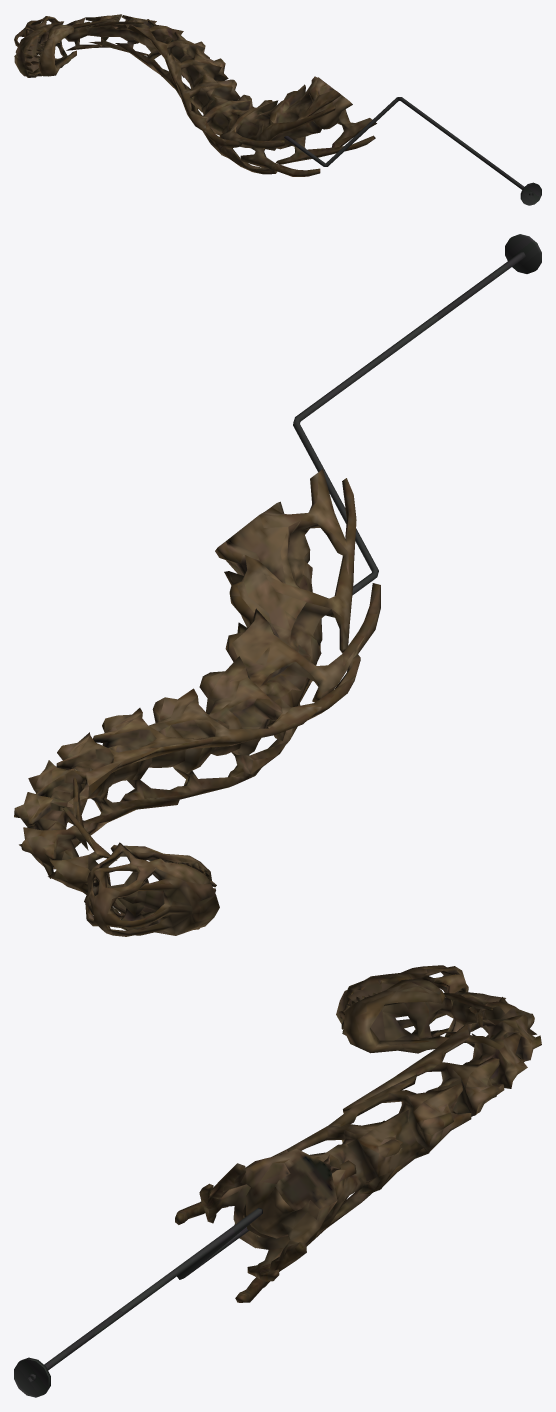
File: fossil10.fbx
3 views of the same model, one above another, from view 1: azimuth 30°, elevation 25°; view 2: azimuth 150°, elevation 25°; view 3: azimuth 330°, elevation 25° (orthographic). The views are drawn at different scales.
Visible parts, largest first — view 1: Low_head1__mFtrFossilBrachiosaurusA, pipe7__mFossilPole; view 2: Low_head1__mFtrFossilBrachiosaurusA, pipe7__mFossilPole; view 3: Low_head1__mFtrFossilBrachiosaurusA, pipe7__mFossilPole.
Part boxes in pixels (bbox=[...]): Low_head1__mFtrFossilBrachiosaurusA: bbox=[14, 14, 376, 176]; pipe7__mFossilPole: bbox=[284, 97, 541, 205]; Low_head1__mFtrFossilBrachiosaurusA: bbox=[14, 469, 380, 936]; pipe7__mFossilPole: bbox=[293, 234, 541, 615]; Low_head1__mFtrFossilBrachiosaurusA: bbox=[175, 965, 541, 1302]; pipe7__mFossilPole: bbox=[14, 1208, 262, 1397].
Bounding box in the file's own units: 168 × 111 × 609.
